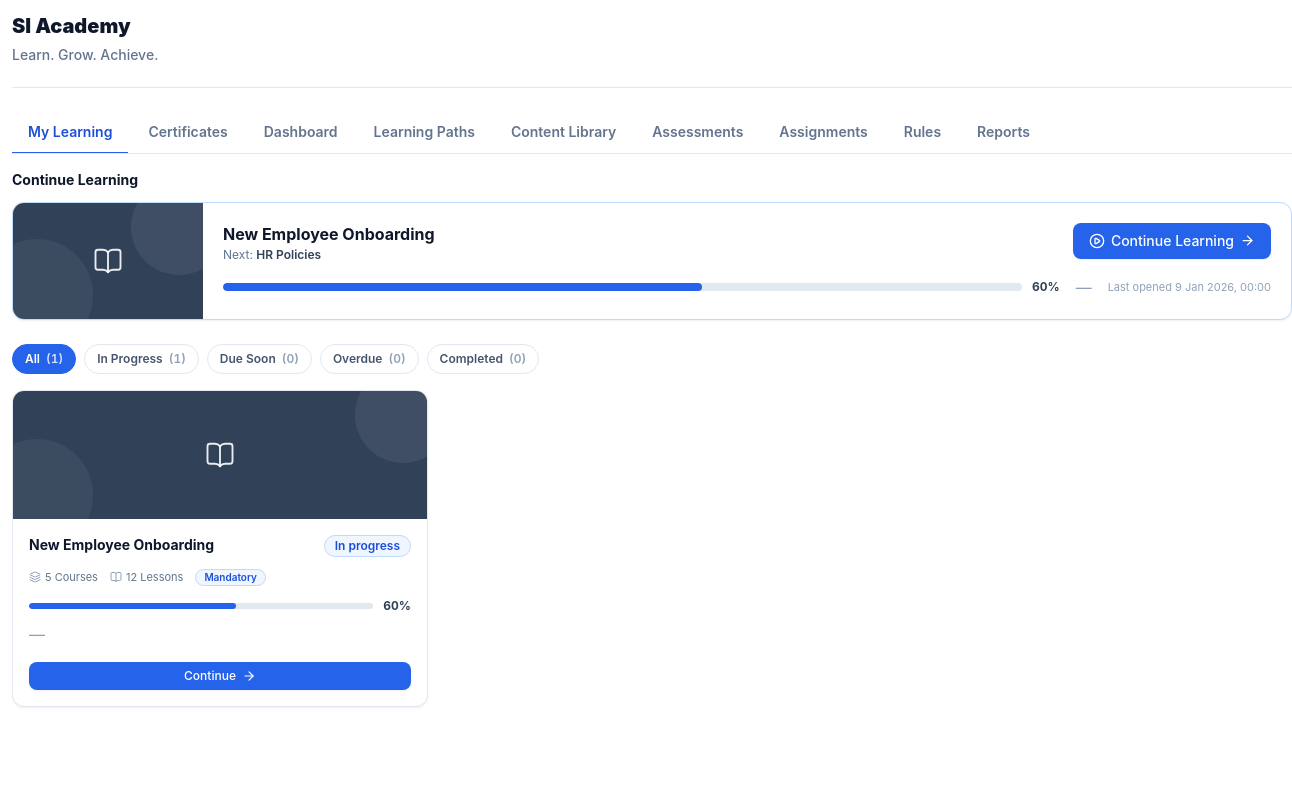
Test: my learning › a chip that matches nothing says so rather than showing an empty grid
What coordinates should you click on to do the following:
click the button "Overdue (0)"
I would click on:
 (369, 359)
Its box is [320,344,419,374].
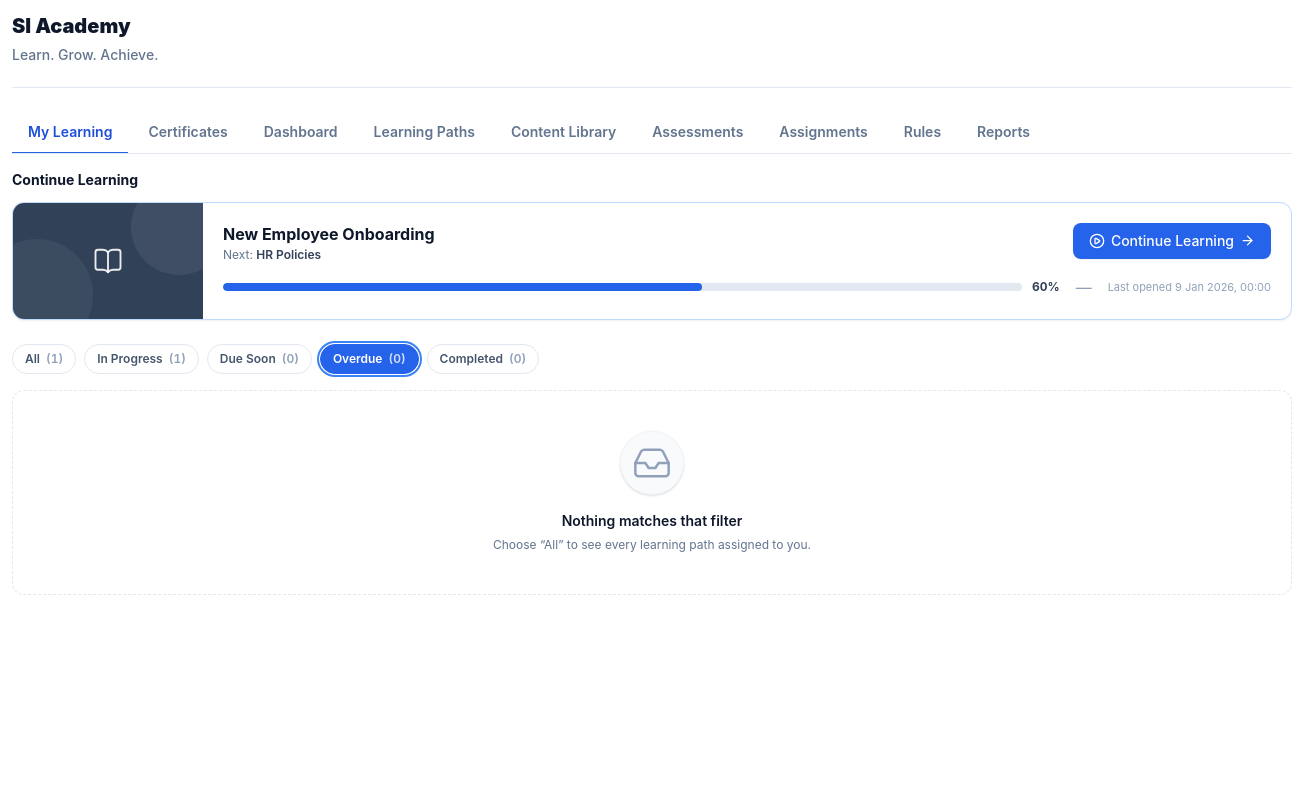
Check: the heading "Nothing matches that filter" is shown, box [562,511,742,531]
